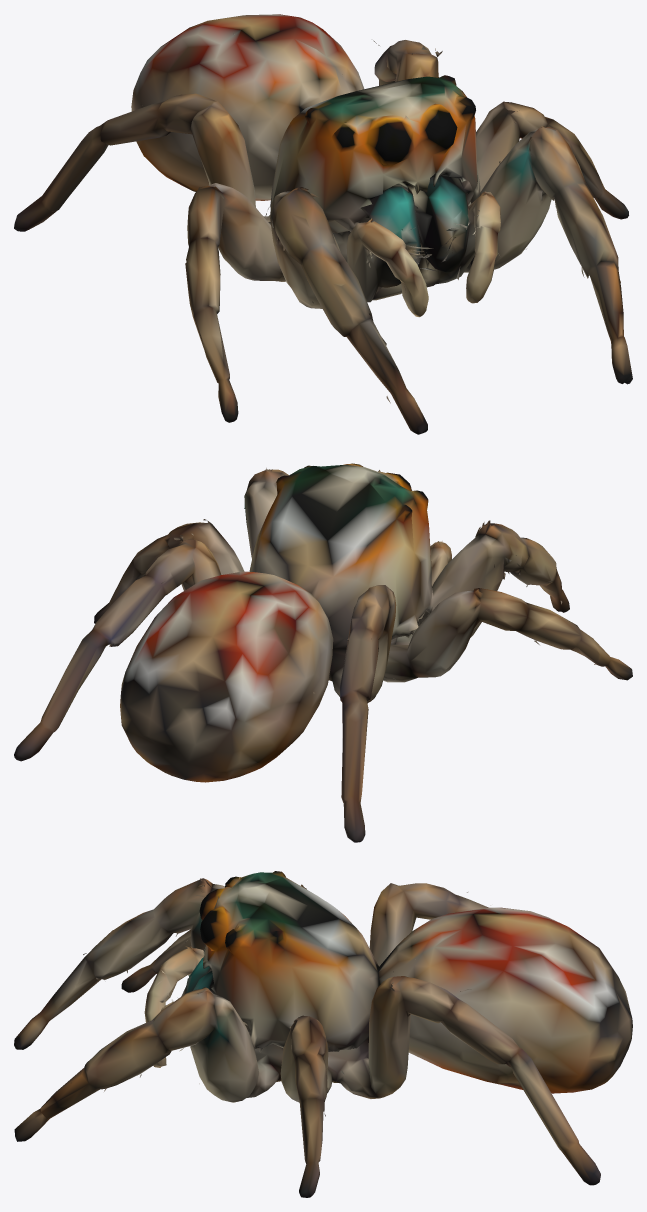
Rendered from spider.glb.
The picture shows the model from 3 angles, top to bottom: view 1: azimuth 30°, elevation 25°; view 2: azimuth 150°, elevation 25°; view 3: azimuth 270°, elevation 25°; orthographic projection. The views are drawn at different scales.
Visible parts, largest first — view 1: mesh_0; view 2: mesh_0; view 3: mesh_0.
Boxes of the visible parts, x1,y1,x2,y2 form: mesh_0: (14, 14, 632, 434); mesh_0: (14, 463, 632, 842); mesh_0: (14, 871, 632, 1197).
Size of the model in its own units: 1.61 by 0.7053 by 1.88.
